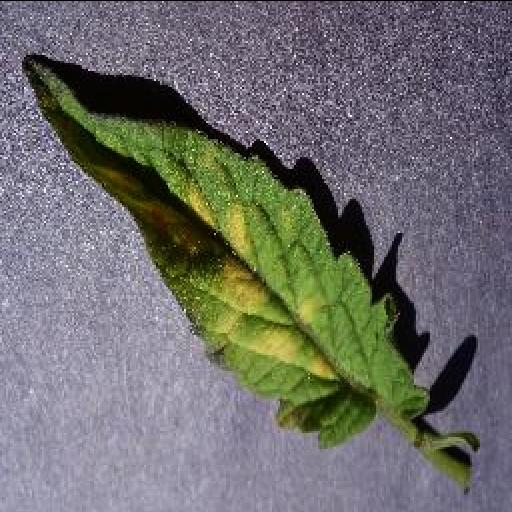disease_tomato: (24, 54, 430, 448)
